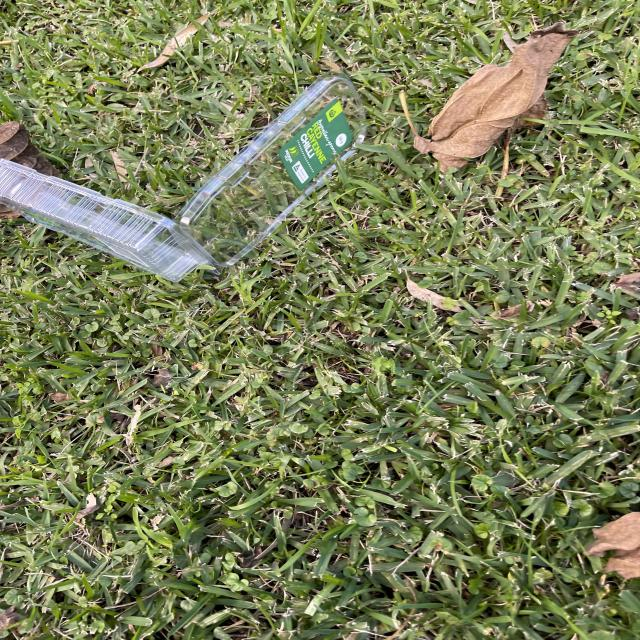container: (0, 73, 379, 283)
